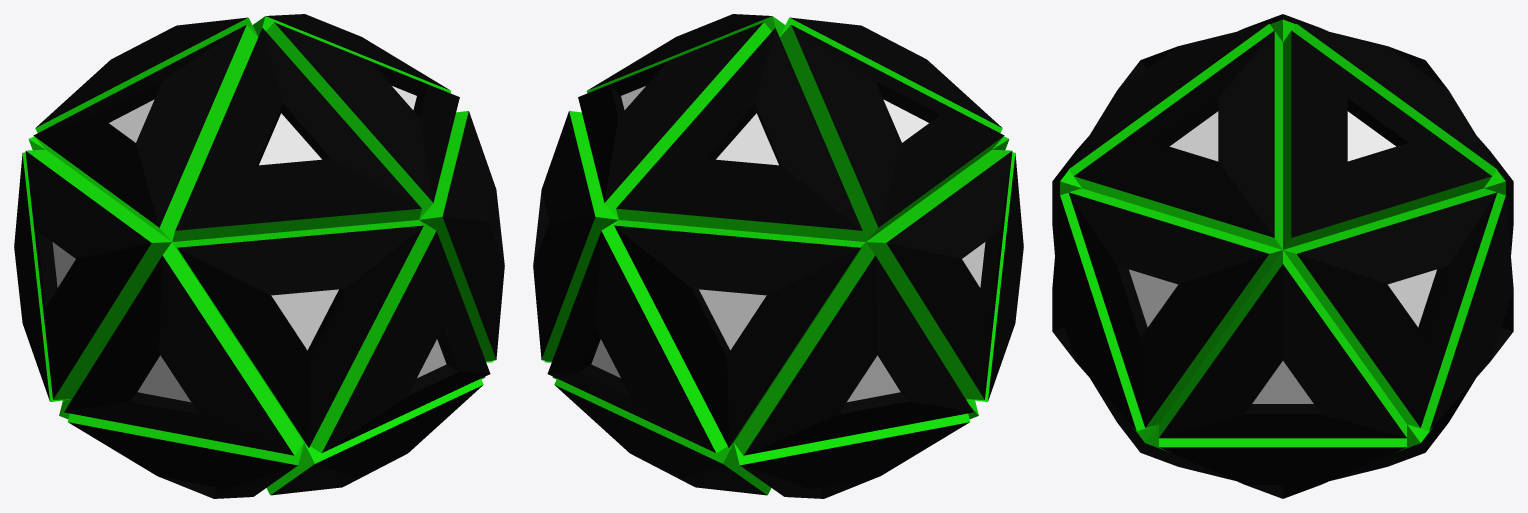
Rendered from ball4.fbx.
The picture shows the model from 3 angles, left to right: view 1: azimuth 30°, elevation 25°; view 2: azimuth 150°, elevation 25°; view 3: azimuth 270°, elevation 25°; orthographic projection.
Parts seen in each view (by area): view 1: Icosphere.004; view 2: Icosphere.004; view 3: Icosphere.004.
Boxes of the visible parts, x1=… form: Icosphere.004: x1=14, y1=14, x2=504, y2=498; Icosphere.004: x1=533, y1=14, x2=1023, y2=498; Icosphere.004: x1=1052, y1=14, x2=1513, y2=498.
Size of the model in its own units: 206 by 216 by 195.
